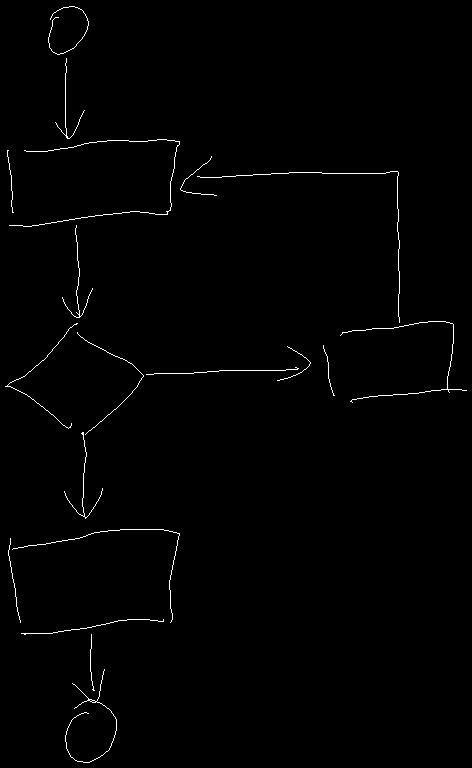arrow: (180, 156, 399, 322), (64, 432, 102, 518), (62, 225, 92, 317), (55, 58, 84, 138), (72, 634, 104, 702)
connection: (65, 699, 116, 762), (48, 6, 88, 54)
decision: (5, 323, 143, 434)
process: (8, 529, 179, 634), (7, 139, 179, 226), (323, 321, 466, 402), (146, 346, 310, 380)
